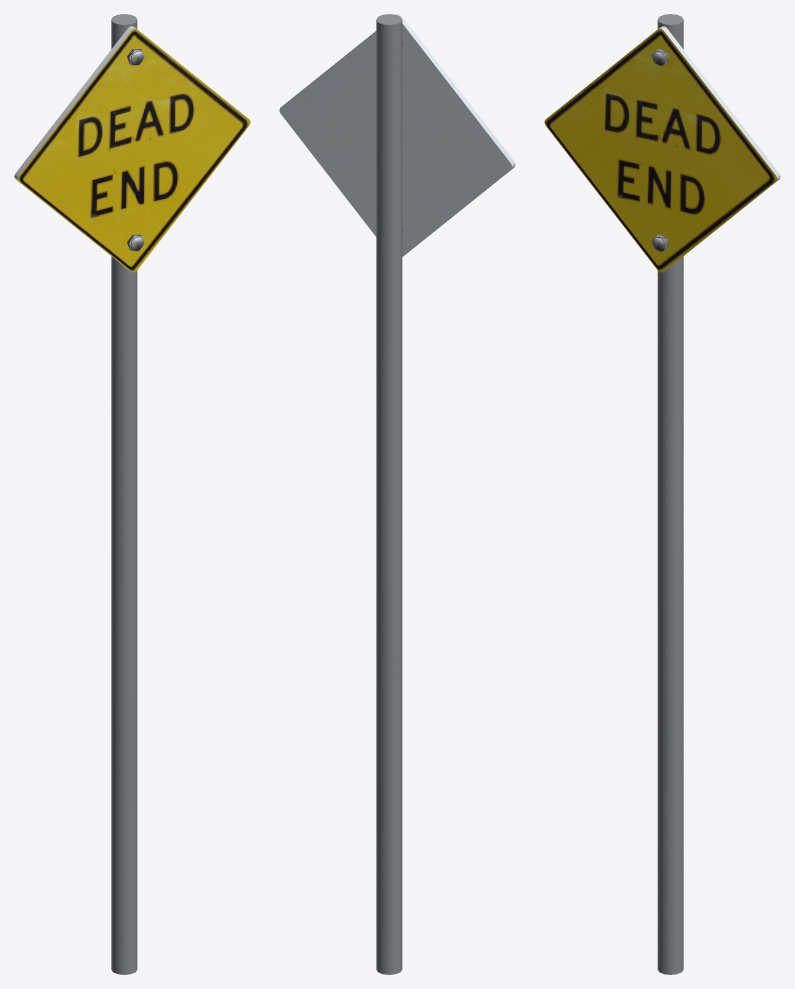
Rendered from StreetSigns_5.fbx.
3 views of the same model, side by side, from view 1: azimuth 30°, elevation 25°; view 2: azimuth 150°, elevation 25°; view 3: azimuth 330°, elevation 25° (orthographic).
Visible parts, largest first — view 1: StreetSigns_5; view 2: StreetSigns_5; view 3: StreetSigns_5.
Boxes of the visible parts, box(x1,y1,x2,y2) form: StreetSigns_5: box(14, 14, 250, 974); StreetSigns_5: box(279, 14, 515, 974); StreetSigns_5: box(544, 14, 780, 974).
Size of the model in its own units: 1.03 by 4 by 0.1481.
